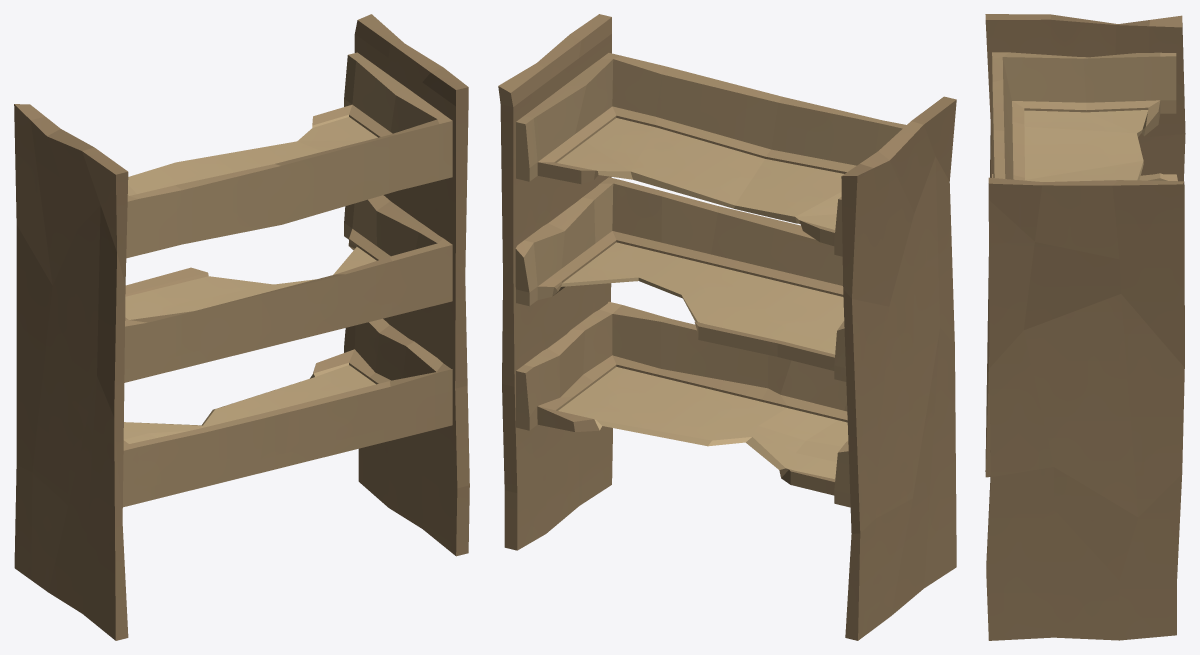
File: shelf_1.glb
3 renders of one model, left to right at view 1: azimuth 30°, elevation 25°; view 2: azimuth 150°, elevation 25°; view 3: azimuth 270°, elevation 25°, orthographic. The views are drawn at different scales.
Visible parts, largest first — view 1: shelf_1; view 2: shelf_1; view 3: shelf_1.
Part boxes in pixels (x1,y1,x2,y2): shelf_1: [14, 14, 469, 640]; shelf_1: [498, 14, 956, 640]; shelf_1: [985, 14, 1185, 640].
Bounding box in the file's own units: 1.12 × 1.4 × 0.5541.
Materials: 1 (1 with a texture image).
